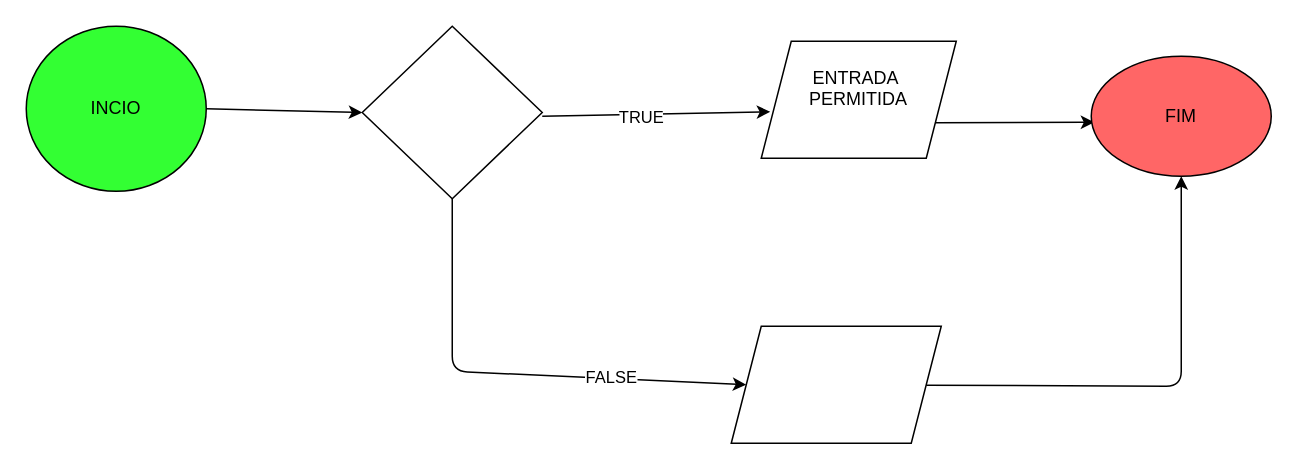
The diagram is 1298 pixels wide and 470 high, and some of its shapes have lost their labels. The centre of each missing label's shape, as x and y in pixels:
"ENTRADA NEGADA" goes at point 835,384.
"IDADE >= MAIORIDADE" goes at point 451,112.
